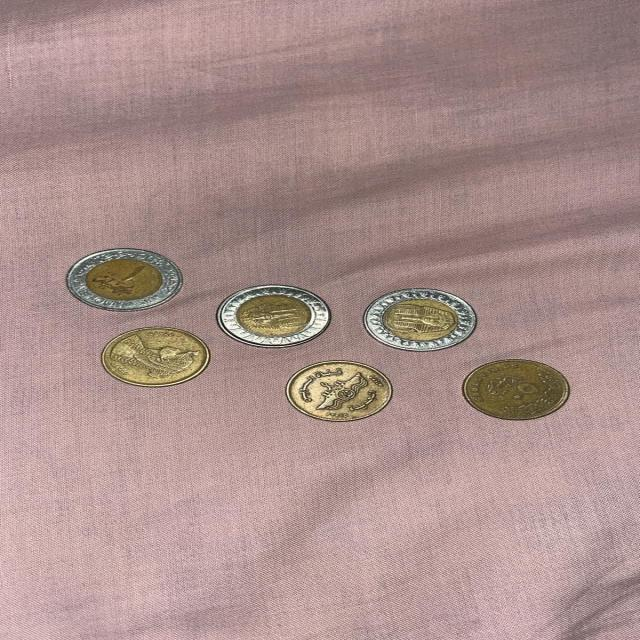Half Pound: (446, 355, 594, 424), (280, 359, 400, 433), (98, 325, 213, 390)
One Pound: (52, 240, 193, 319), (212, 279, 336, 353), (361, 282, 481, 356)
